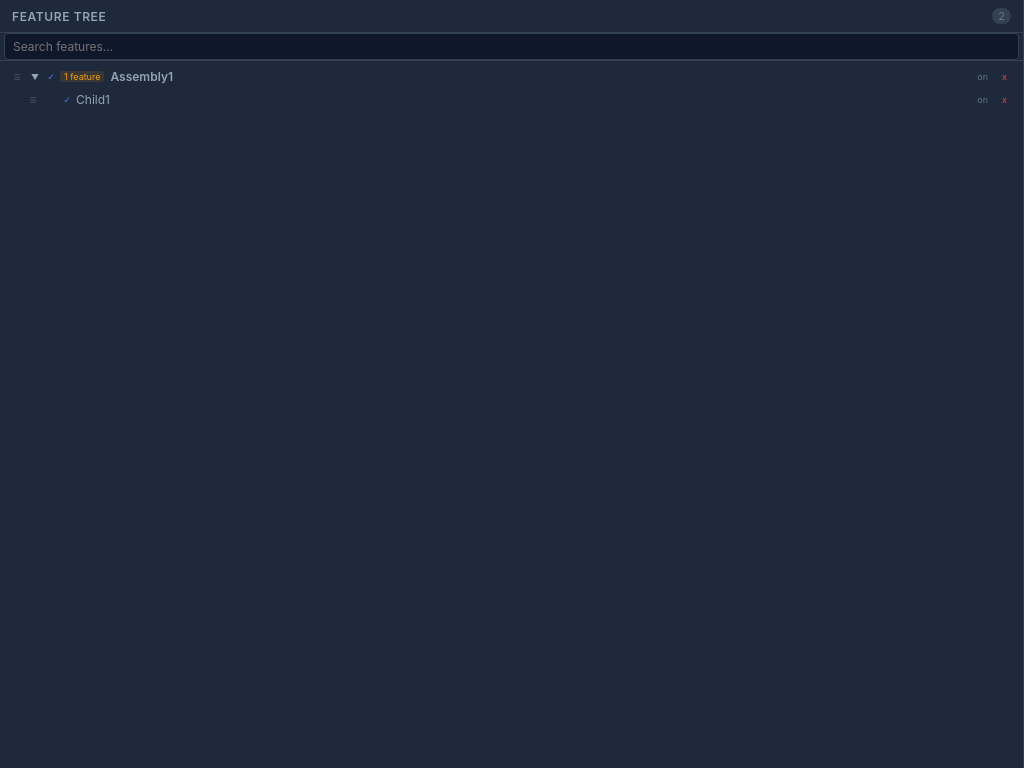
Test: FeatureTree › should toggle assembly expand/collapse on click
Check: the text "Child1" is shown, box [76,92,110,107]
Note: Click the expand toggle arrow to collapse
Click the text "▼".
click(35, 76)  # box [31,72,39,82]
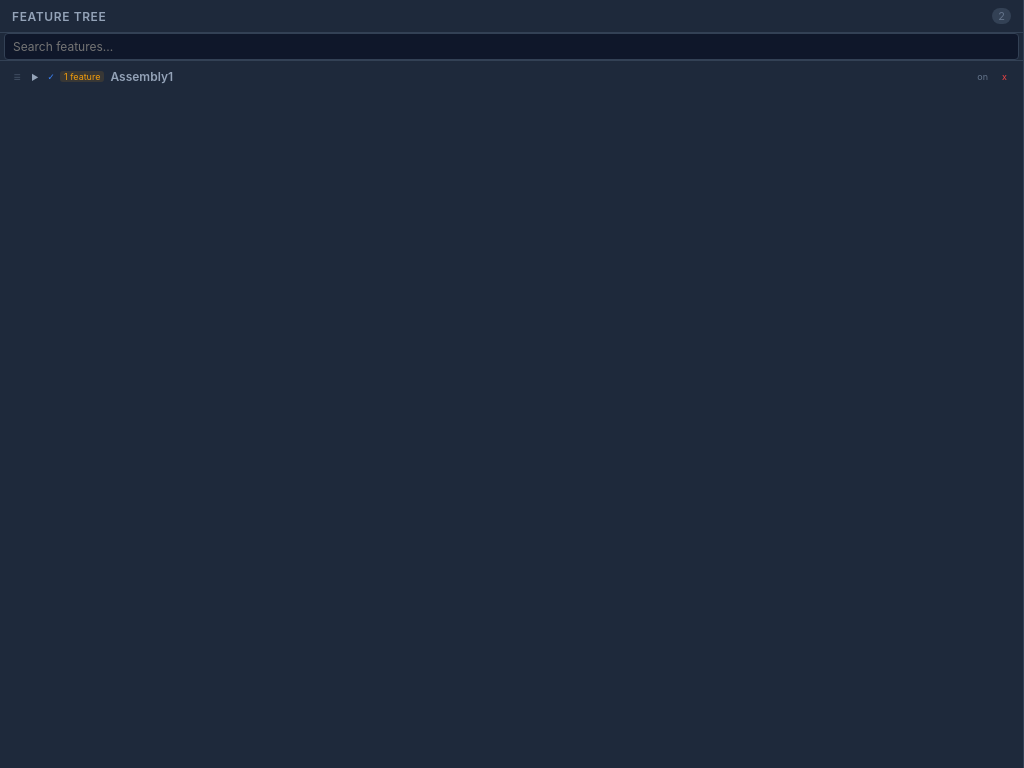
Check: the text "Child1" is gone
